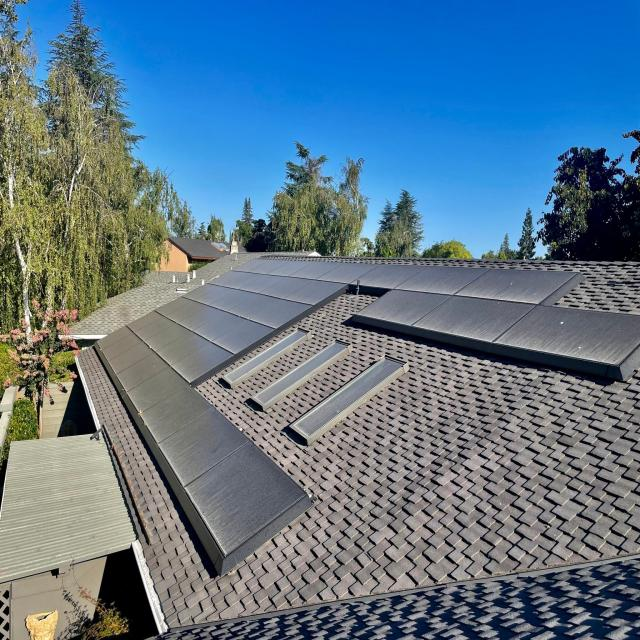dust-solar-panel: (96, 255, 640, 561)
